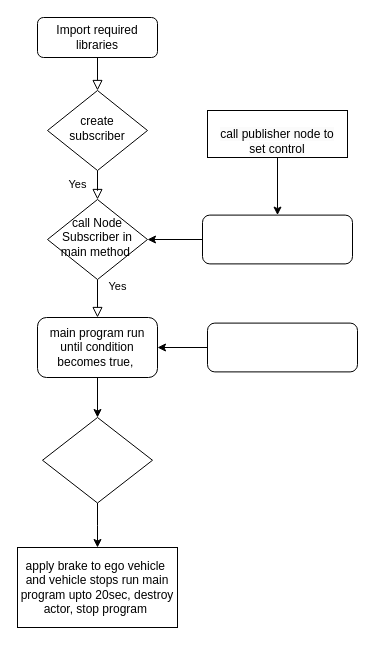
This 375x645 diagram has some shape labels left out. The centre of each missing label's shape, as x and y in pixels:
"Calculate relative distance using world positioning" belongs at [282,347].
"get env, select vehicle, spawn vehicle," belongs at [277,239].
"if distance less than safe distance" belongs at [97,459].
